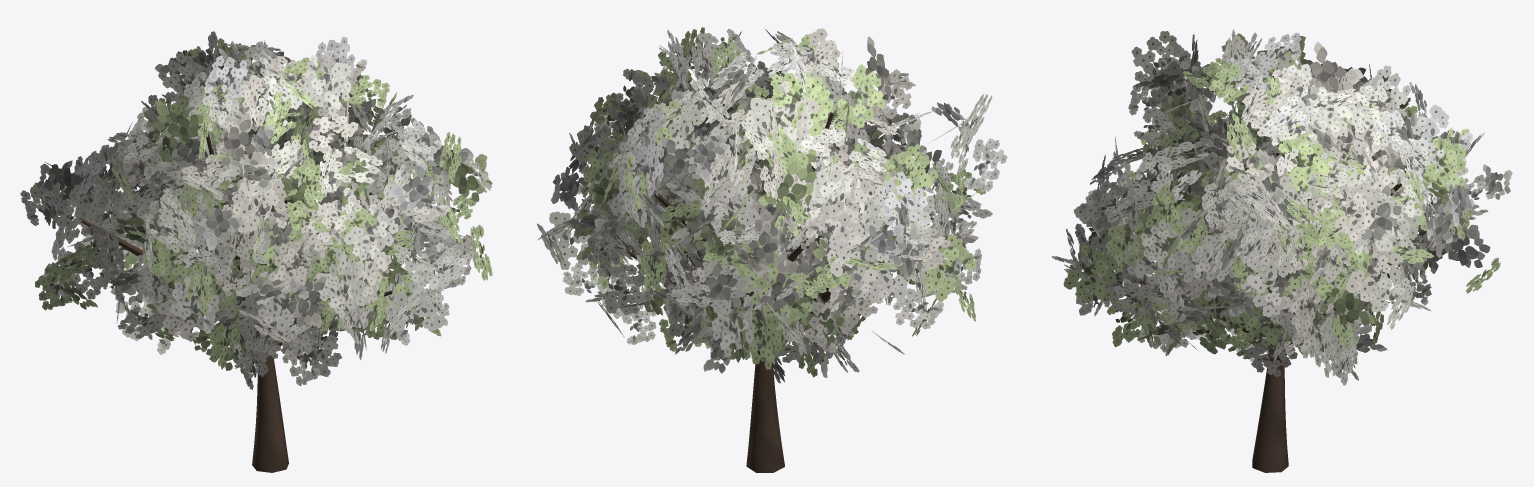
File: whiteblossom_0.glb
3 renders of one model, left to right at view 1: azimuth 30°, elevation 25°; view 2: azimuth 150°, elevation 25°; view 3: azimuth 270°, elevation 25°, orthographic. The views are drawn at different scales.
Parts seen in each view (by area): view 1: whiteblossom_0; view 2: whiteblossom_0; view 3: whiteblossom_0.
Part boxes in pixels (left/top/right/bottom): whiteblossom_0: left=20, top=31, right=492, bottom=472; whiteblossom_0: left=537, top=27, right=1007, bottom=472; whiteblossom_0: left=1051, top=29, right=1512, bottom=472.
Size of the model in its own units: 0.9944 by 1 by 1.
Materials: 2 (1 with a texture image).
